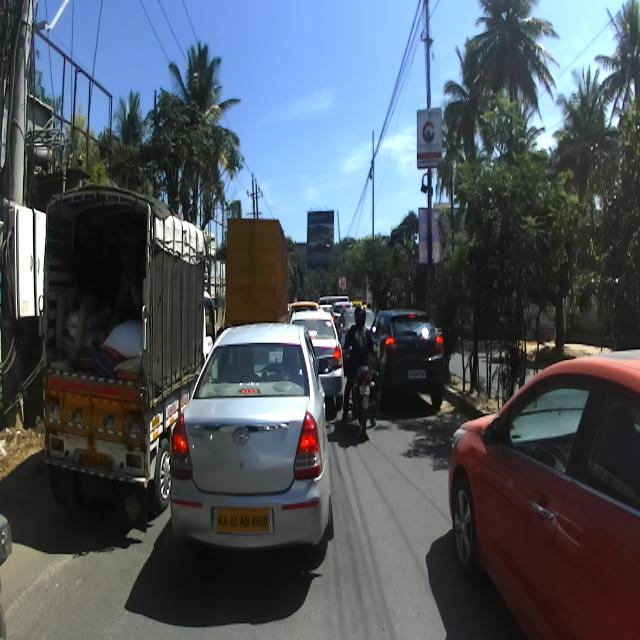car ahead at: (449, 345, 640, 640), (171, 321, 336, 564), (380, 306, 452, 414)
motorcycle ahead at: (342, 356, 380, 436)
truck ahead at: (30, 187, 206, 505)
